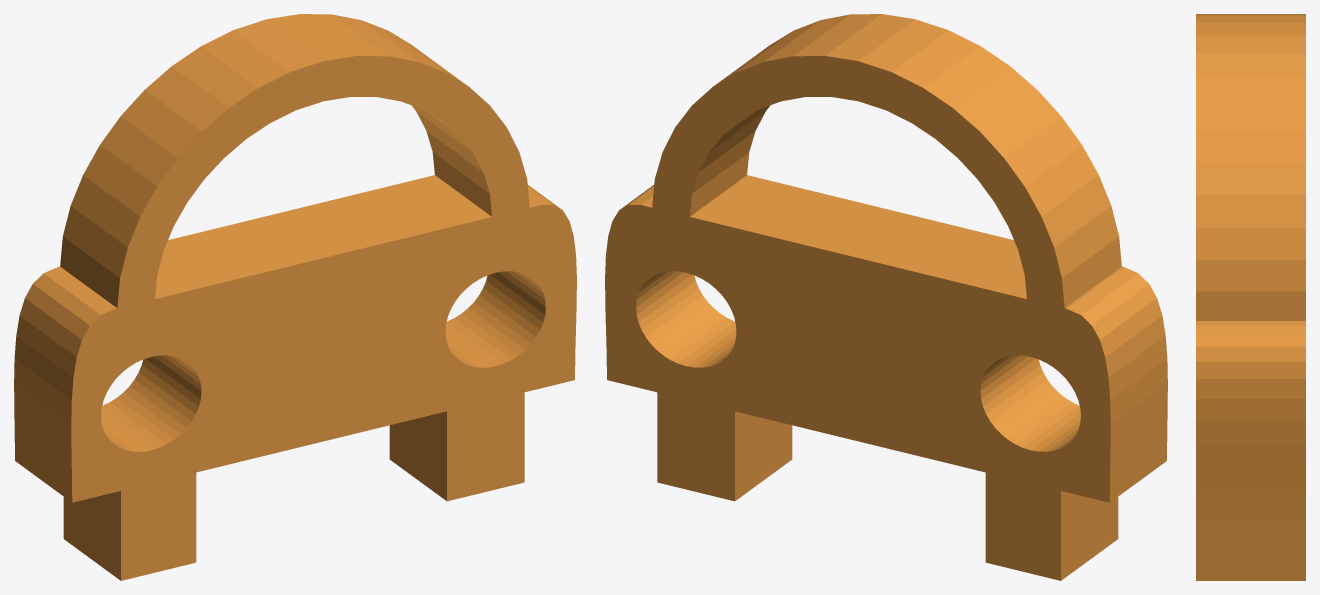
File: Bil.obj
3 renders of one model, left to right at view 1: azimuth 30°, elevation 25°; view 2: azimuth 150°, elevation 25°; view 3: azimuth 270°, elevation 25°, orthographic. The views are drawn at different scales.
Visible parts, largest first — view 1: obj_0; view 2: obj_0; view 3: obj_0.
Part boxes in pixels (box(x1,y1,x2,y2)): obj_0: box(14, 14, 576, 580); obj_0: box(605, 14, 1167, 580); obj_0: box(1196, 14, 1305, 580).
Size of the model in its own units: 51.02 by 45.36 by 10.
